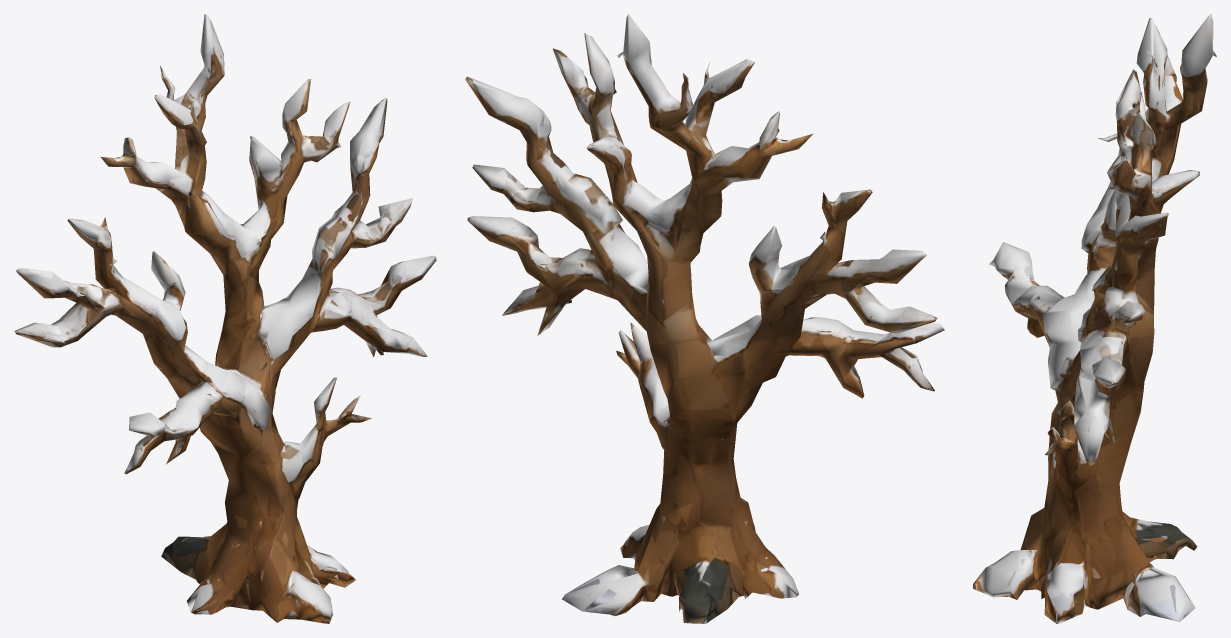
File: tree_snow_dead.glb
3 renders of one model, left to right at view 1: azimuth 30°, elevation 25°; view 2: azimuth 150°, elevation 25°; view 3: azimuth 270°, elevation 25°, orthographic. The views are drawn at different scales.
Parts seen in each view (by area): view 1: BakeLow; view 2: BakeLow; view 3: BakeLow.
Part boxes in pixels (<box>): BakeLow: <box>14,14,436,623</box>; BakeLow: <box>465,14,944,623</box>; BakeLow: <box>973,14,1216,623</box>.
Size of the model in its own units: 0.7304 by 0.9006 by 0.3493.
1 material, 1 textured.
